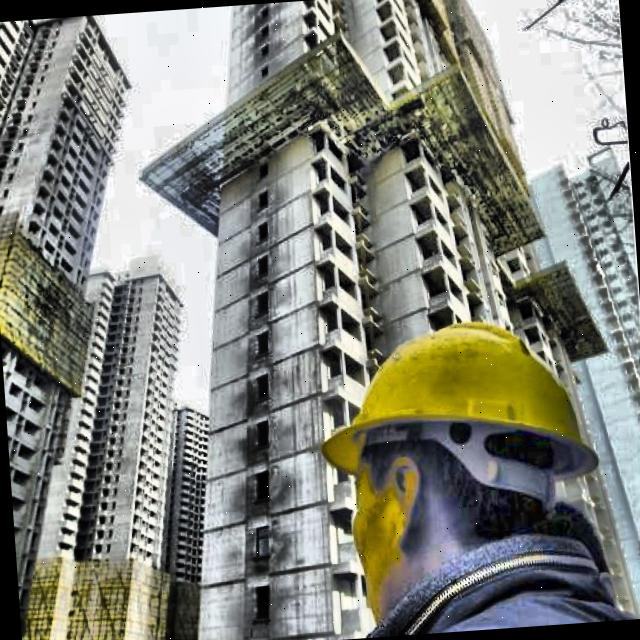helmet: (288, 271, 628, 618)
